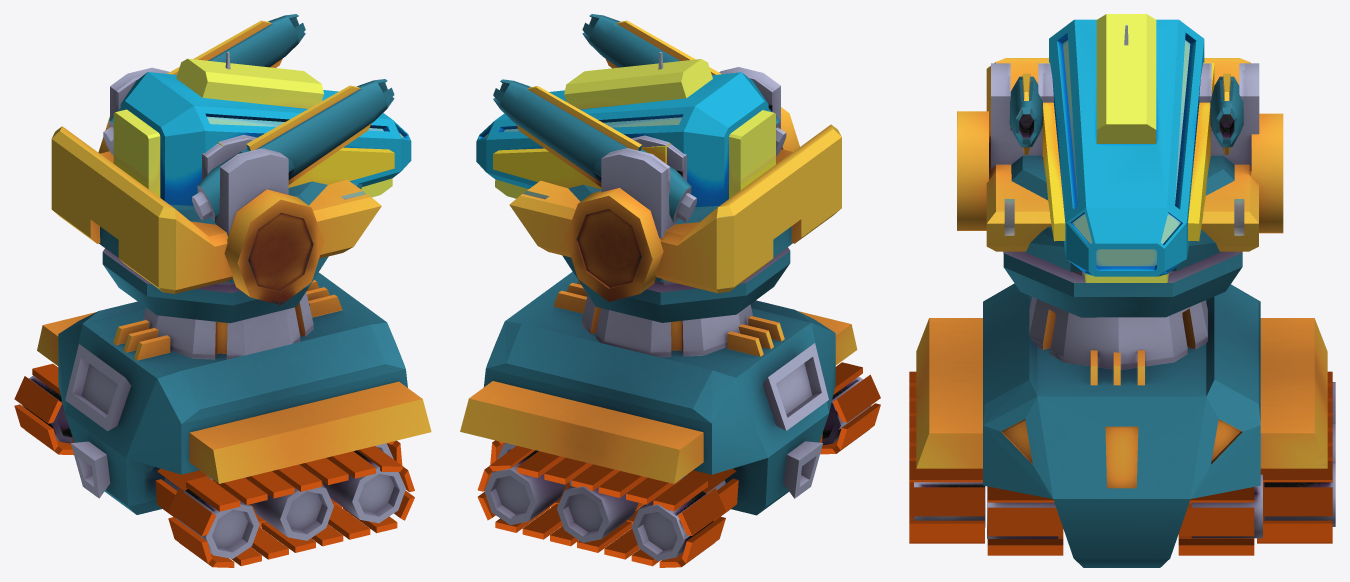
Rendered from Player_Idle_2_Upgrade20.obj.
The picture shows the model from 3 angles, left to right: view 1: azimuth 30°, elevation 25°; view 2: azimuth 150°, elevation 25°; view 3: azimuth 270°, elevation 25°; orthographic projection. The views are drawn at different scales.
Parts seen in each view (by area): view 1: Object008, Box020, Object014, Box018, Box019, Box017; view 2: Object008, Object014, Box019, Box018, Box020, Box016; view 3: Object008, Box020, Box019, Box016, Box017, Object014, Box018, Box009.
Boxes of the visible parts, x1,y1,x2,y2 form: Object008: (37,58,431,514); Box020: (168,446,414,567); Object014: (103,14,394,221); Box018: (22,375,405,558); Box019: (14,363,73,455); Box017: (155,440,402,527); Object008: (460,59,857,515); Object014: (493,14,786,222); Box019: (477,446,725,567); Box018: (484,376,871,560); Box020: (820,362,880,454); Box016: (490,440,738,524); Object008: (916,14,1327,567); Box020: (909,371,984,543); Box019: (1257,371,1332,543); Box016: (1178,487,1254,555); Box017: (987,486,1063,555); Object014: (1009,73,1243,154); Box018: (914,382,1335,527); Box009: (987,474,1262,538).
Bounding box in the file's own units: 65.77 × 84.81 × 68.55.
Materials: 5 (3 with a texture image).
